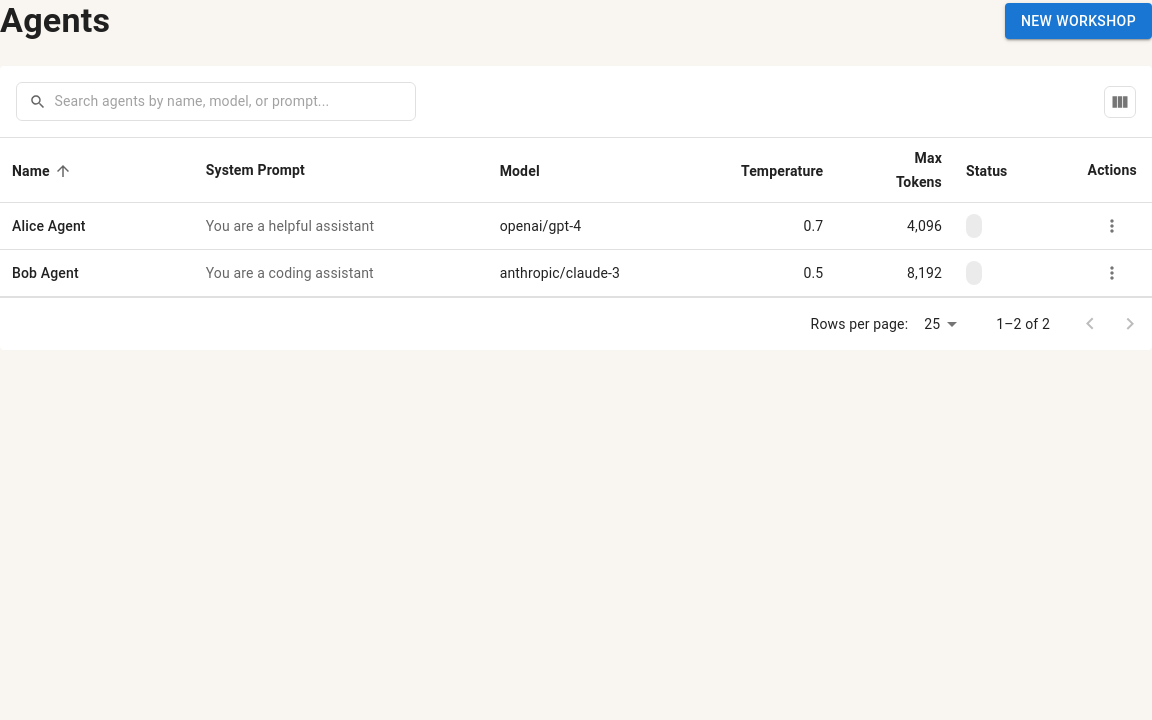
AgentsPage › opens delete confirmation modal when delete action clicked
This screenshot has width=1152, height=720.
Note: Open first action menu
Step 1. Click the button named "Actions for" → [1112, 226], box [1097,211,1127,241]
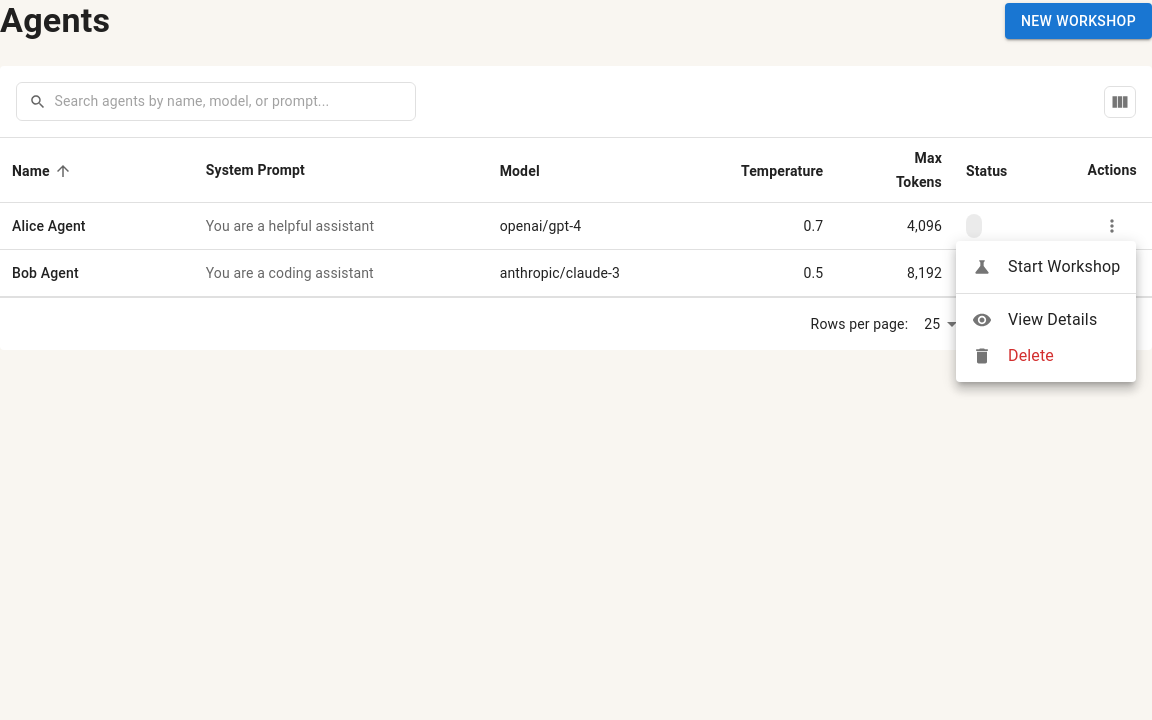
Note: Click delete action
Step 2. Click the menu item "Delete" → [1013, 356], box [972,346,1054,366]
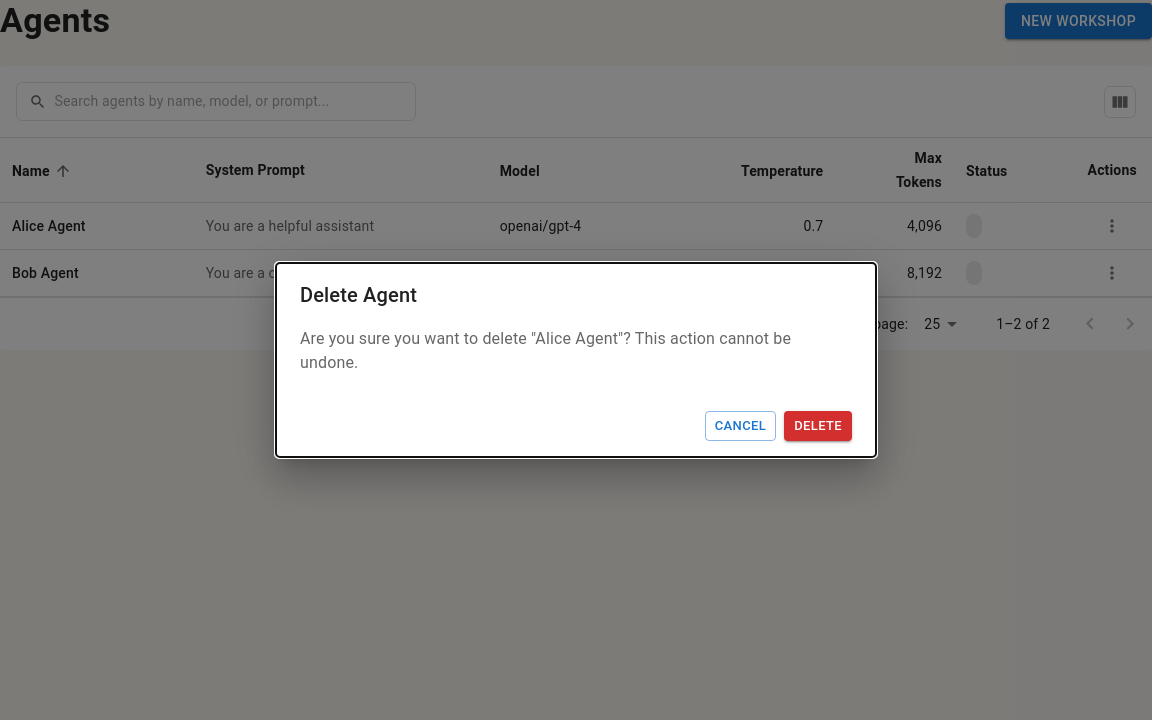
Result: the heading "Delete Agent" is shown at [300,283,417,307]
Result: the text "Are you sure you want to delete \"Alice Agent\"" is shown at [300,329,791,372]
